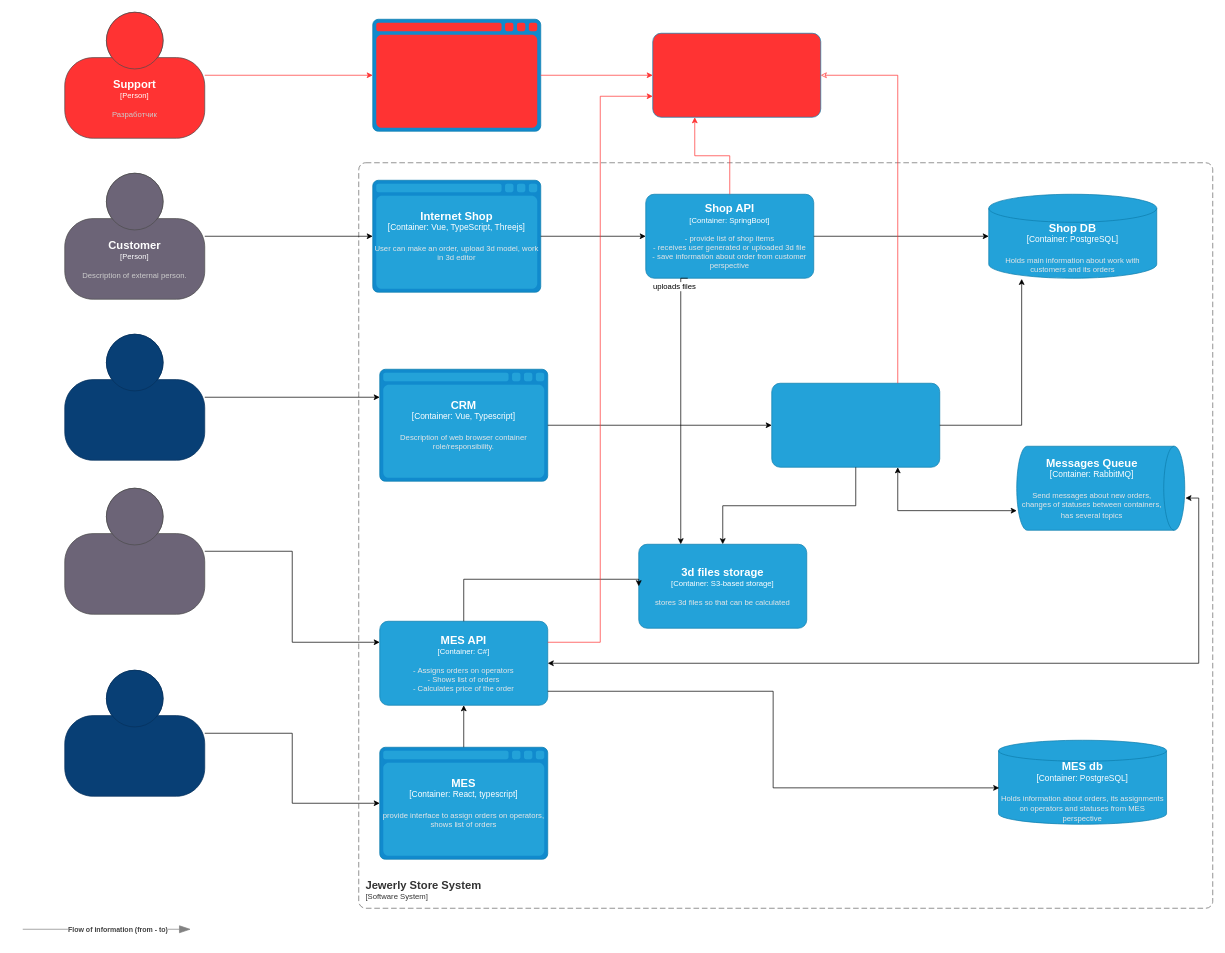
Some shapes in this 1225 by 953 pixel diagram are drawn without their labels. The shapes that lost their labels are listed below. From the top down, each one's centre as x and y in pixels, then its label:
At (456,75): "Jaeger UI [Container: Reactjs] Просмотр трейсов".
At (736,75): "Jaeger [Container: Go] Хранение трейсов".
At (134,397): "Seller [Person] Operates with order, confirms manufacturing for the user".
At (855,425): "CRM API [Container: SpringBoot] Description of container role/responsibility.".
At (134,551): "API user [Person] Description of external person.".
At (134,733): "Operator [Person] Takes order in work, manufactures jewerly".
